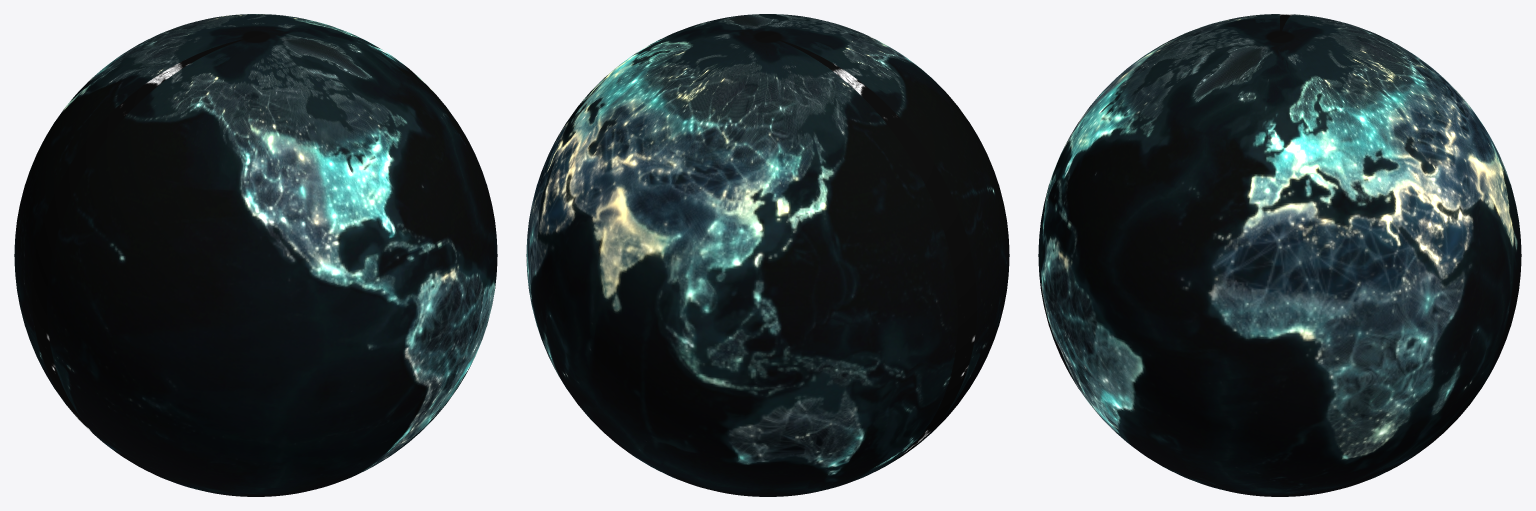
File: digital-globe.glb
3 views of the same model, side by side, from view 1: azimuth 30°, elevation 25°; view 2: azimuth 150°, elevation 25°; view 3: azimuth 270°, elevation 25° (orthographic).
Visible parts, largest first — view 1: MapSphere; view 2: MapSphere; view 3: MapSphere.
Boxes of the visible parts, box(x1,y1,x2,y2) form: MapSphere: box(14, 14, 497, 496); MapSphere: box(526, 14, 1009, 496); MapSphere: box(1038, 14, 1521, 496).
Bounding box in the file's own units: 4.08 × 4.08 × 4.08.
3 materials, 1 textured.
